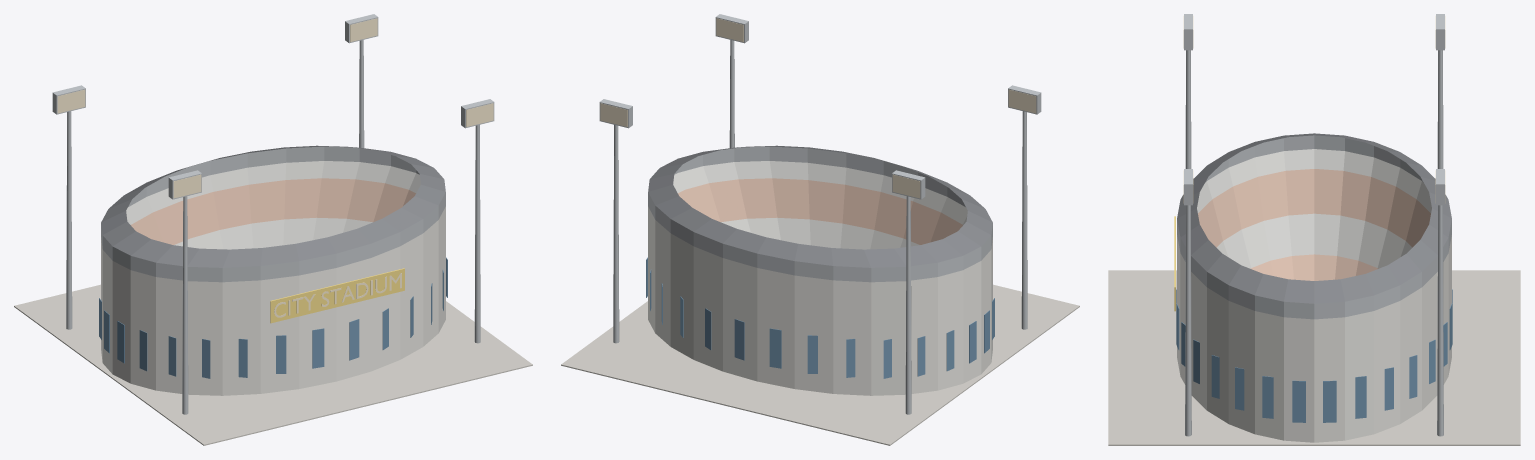
The model's file is stadium.glb.
The picture shows the model from 3 angles, left to right: view 1: azimuth 30°, elevation 25°; view 2: azimuth 150°, elevation 25°; view 3: azimuth 270°, elevation 25°; orthographic projection. The views are drawn at different scales.
Parts seen in each view (by area): view 1: stadium; view 2: stadium; view 3: stadium.
Boxes of the visible parts, x1,y1,x2,y2 form: stadium: [14, 14, 532, 445]; stadium: [561, 14, 1079, 445]; stadium: [1108, 14, 1520, 445].
Size of the model in its own units: 36 by 25 by 36.
